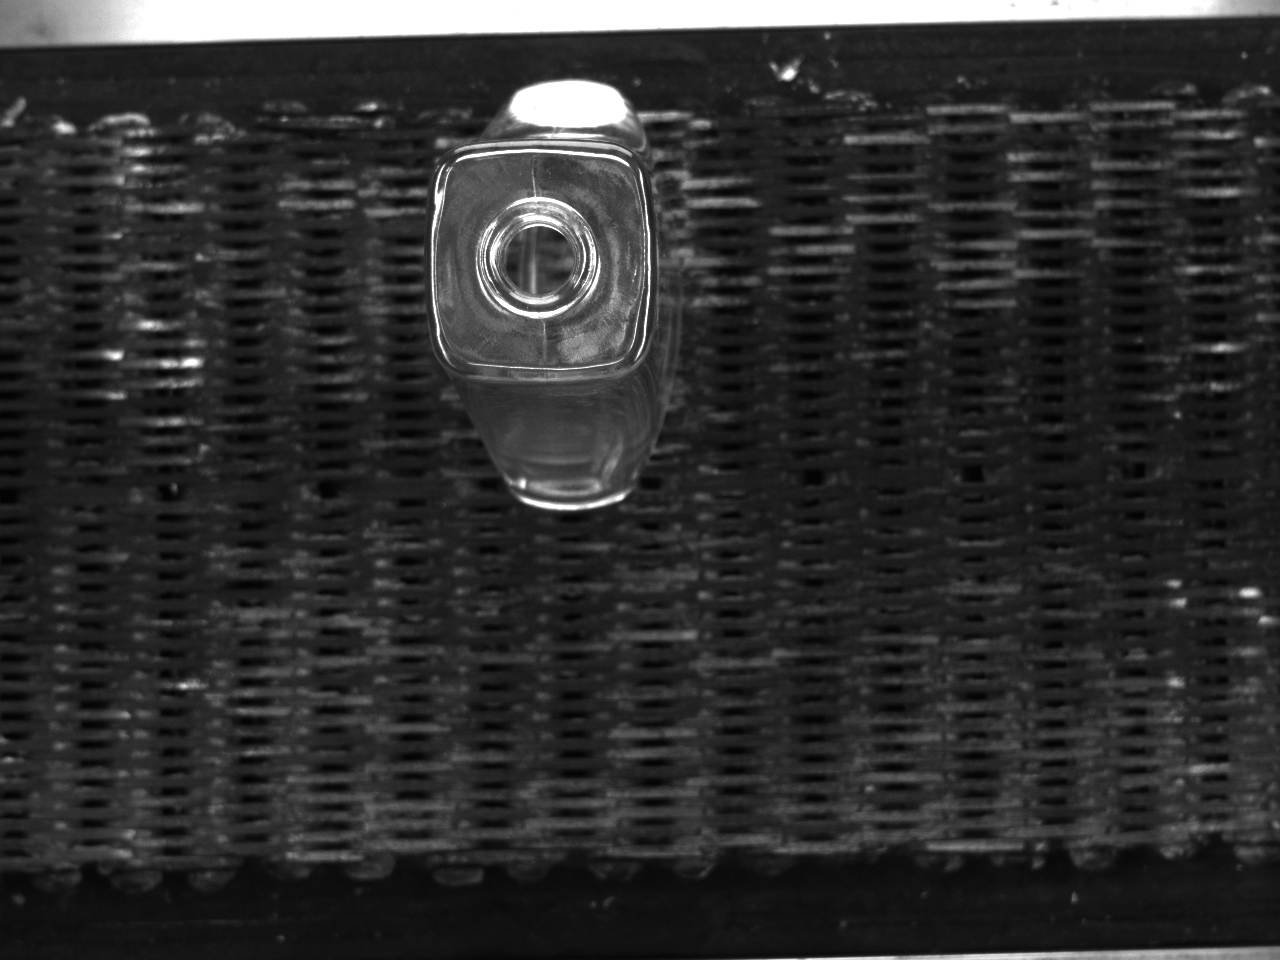bottleneck: (476, 197, 602, 318)
